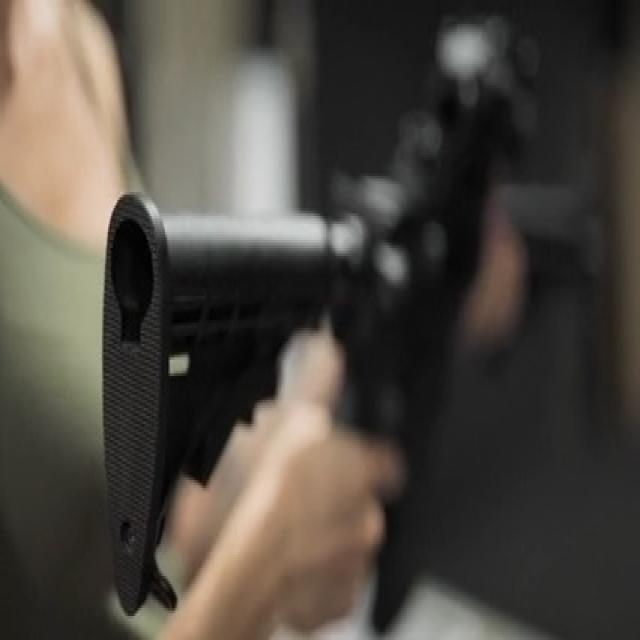Gun_Holder: (69, 0, 640, 635)
